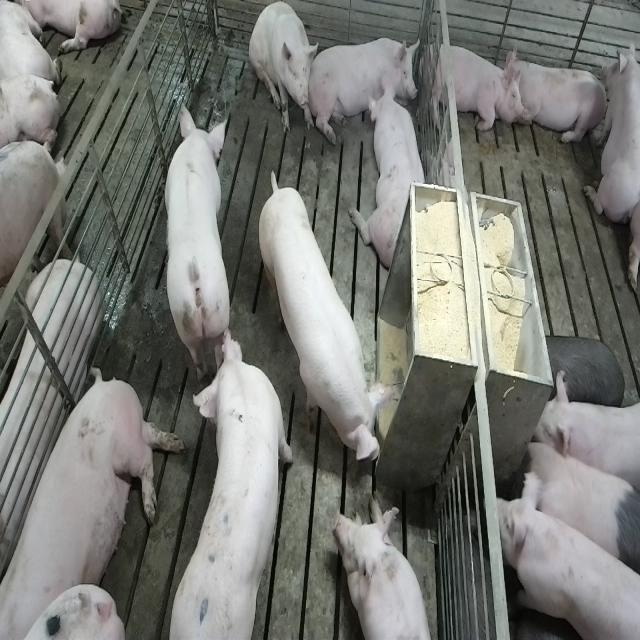Lateral_lying: (4, 363, 186, 635), (0, 260, 102, 576)
Sitting: (249, 2, 317, 138)
Standing: (168, 322, 296, 635), (260, 170, 390, 472), (498, 478, 639, 640), (157, 100, 230, 388), (519, 426, 637, 580), (0, 140, 72, 354), (532, 369, 636, 504), (532, 331, 625, 411)
Sternal_lying: (336, 494, 437, 640), (357, 84, 430, 273), (313, 29, 417, 138), (584, 36, 638, 225), (425, 37, 522, 136), (510, 52, 608, 148)
